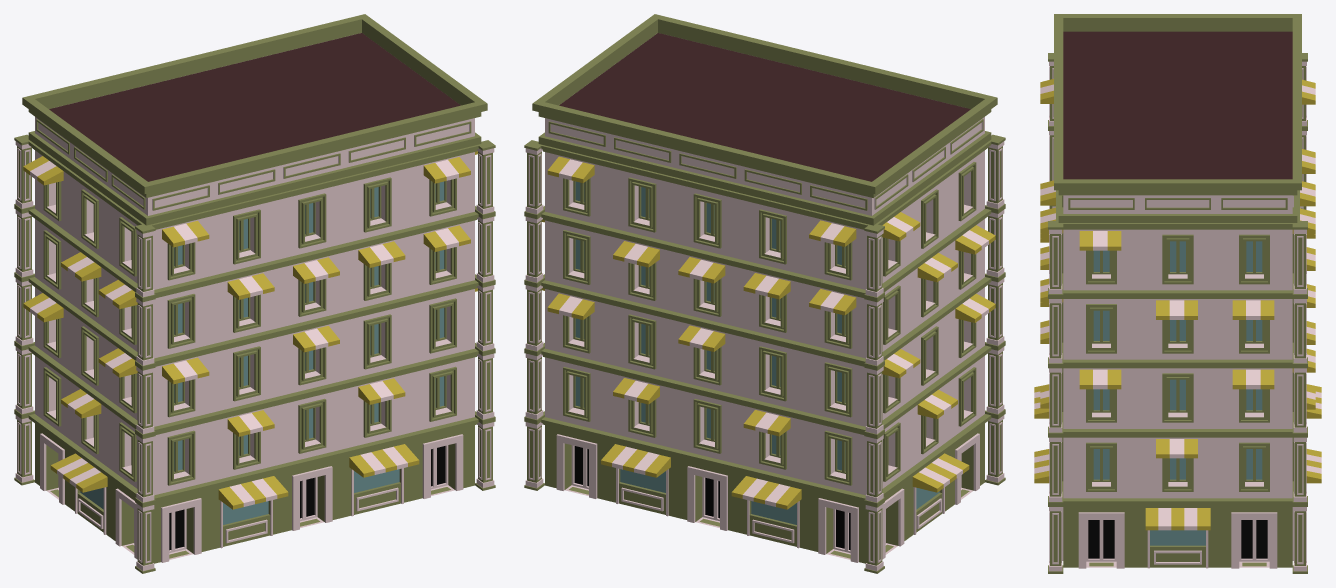
3 views of the same model, side by side, from view 1: azimuth 30°, elevation 25°; view 2: azimuth 150°, elevation 25°; view 3: azimuth 270°, elevation 25° (orthographic).
Parts seen in each view (by area): view 1: Procedural Building; view 2: Procedural Building; view 3: Procedural Building.
Boxes of the visible parts, left/top/right/bottom form: Procedural Building: left=14, top=14, right=495, bottom=573; Procedural Building: left=524, top=14, right=1005, bottom=573; Procedural Building: left=1034, top=14, right=1321, bottom=573.
Size of the model in its own units: 576 by 560 by 376.
